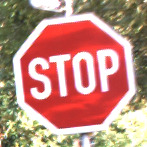stopsign: (14, 14, 134, 135)
